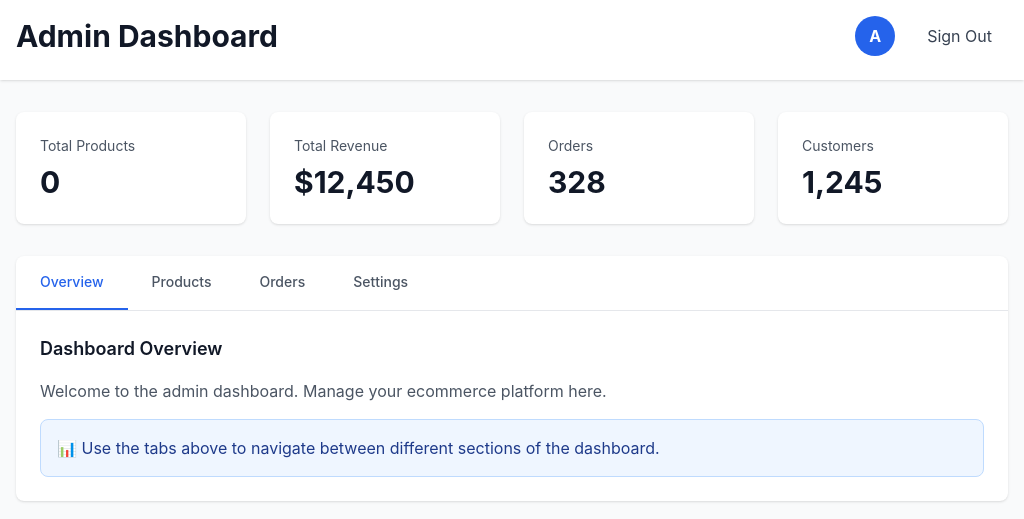
Scenario: AdminDashboard › shows loading message in products tab when loading
Click the button "Products" at (181, 283), box left=128, top=256, right=235, bottom=310
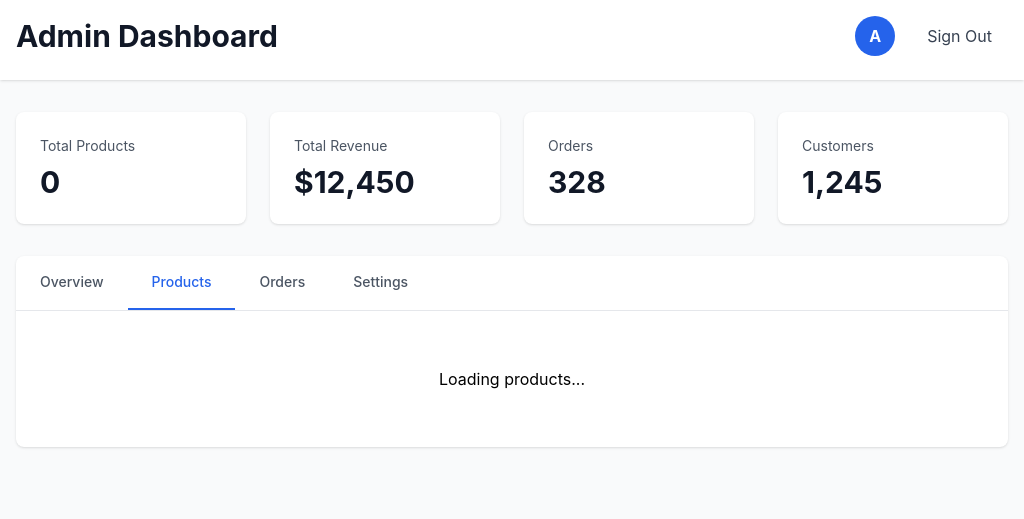
Check: the text "Loading products..." is shown, box left=439, top=369, right=585, bottom=389
